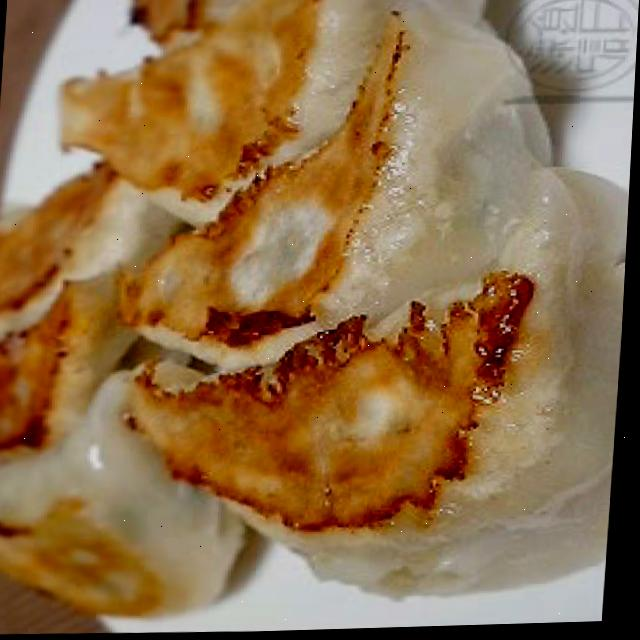带馅早点: (0, 0, 631, 601)
